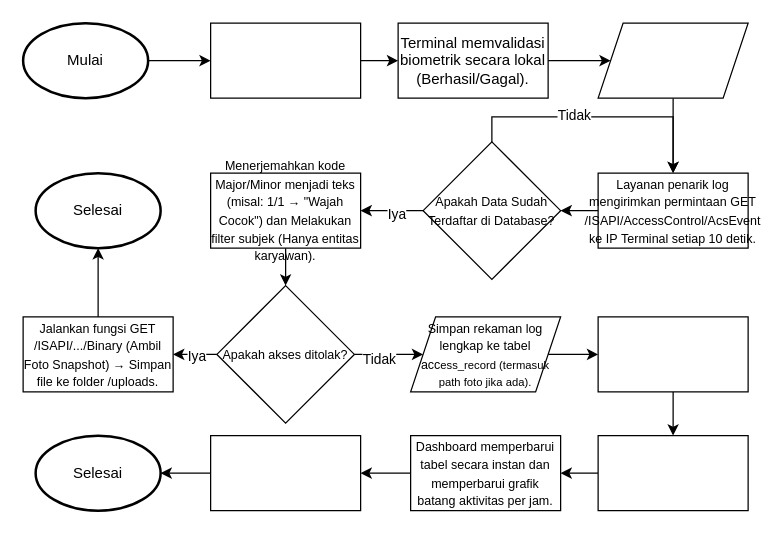
The diagram is 783 pixels wide and 533 high, and some of its shapes have lost their labels. Each missing label, with the centre of its shape:
Data muncul di layar administrator tanpa refresh halaman.: point 285,472
Karyawan melakukan Tap kartu atau Pemindaian Wajah di Terminal Gerbang.: point 285,60
Komponen Dashboard menerima data via WebSocket.: point 672,472
NestJS memancarkan (emit) data log baru melalui kanal event:new-log.: point 672,354
Terminal menyimpan log kejadian di memori internal (Buffer).: point 672,60
